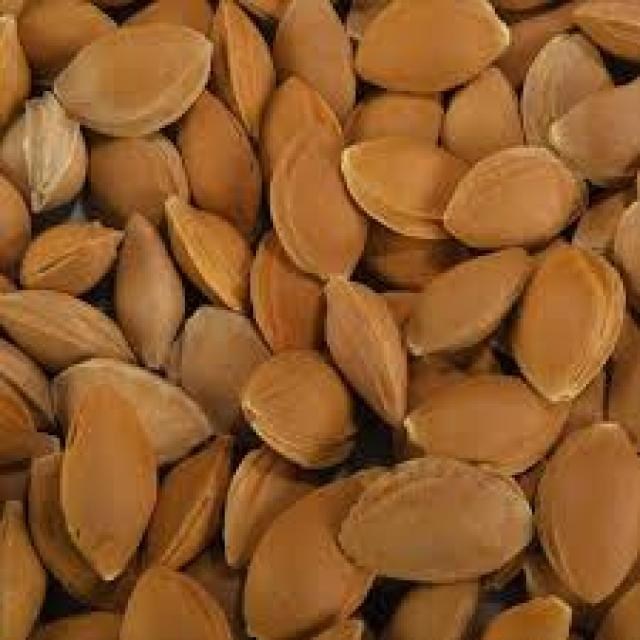cekirdek: (335, 452, 533, 581), (53, 24, 219, 133)
